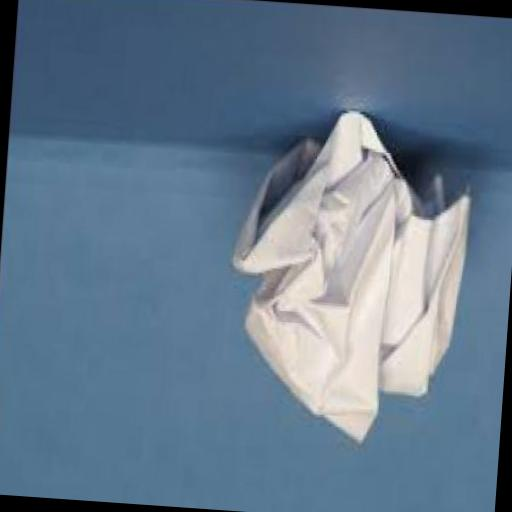paper: (218, 100, 482, 454)
